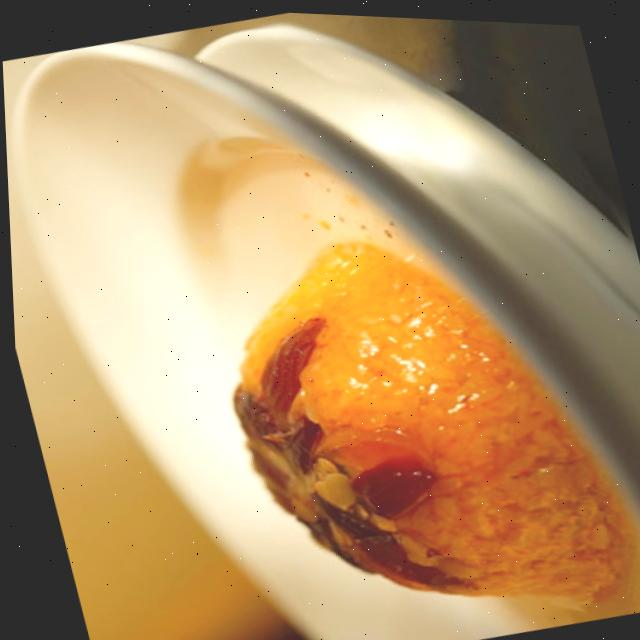米饭主食: (189, 192, 608, 640)
